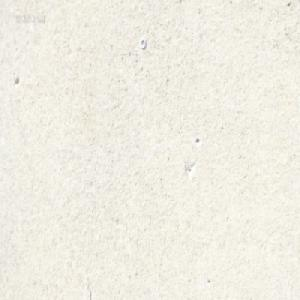Washer: (140, 38, 146, 49)
